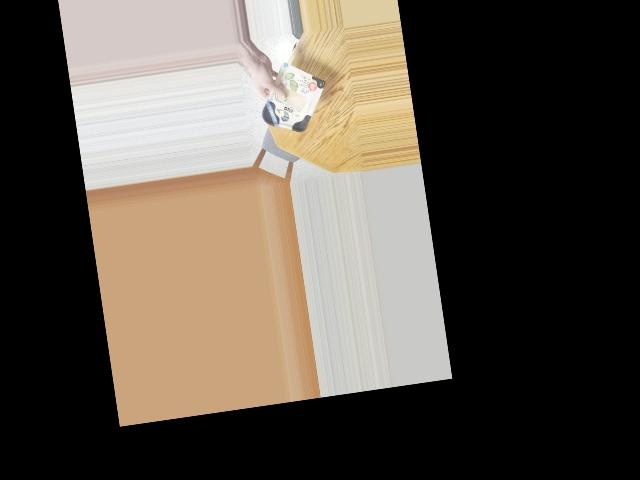cheese: (256, 67, 326, 142)
